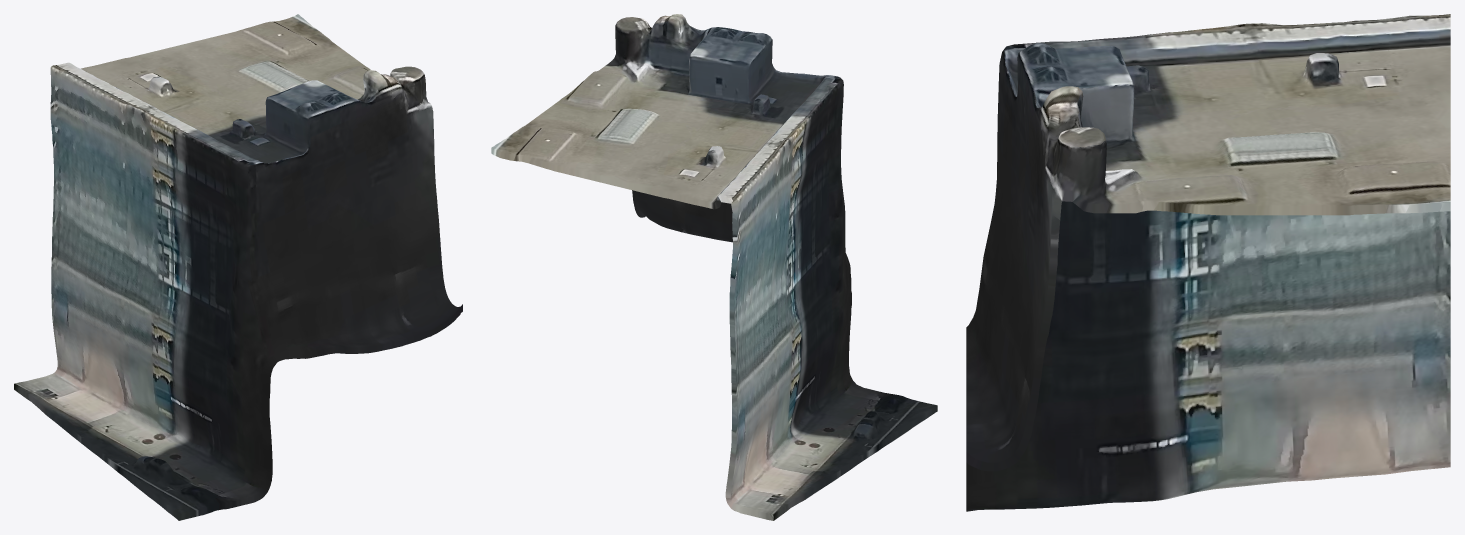
The model's file is z20-167763-405240-h0-yup-uvflip-v3-world.glb.
3 renders of one model, left to right at view 1: azimuth 30°, elevation 25°; view 2: azimuth 150°, elevation 25°; view 3: azimuth 270°, elevation 25°, orthographic. The views are drawn at different scales.
Bounding box in the file's own units: 30.16 × 37.36 × 30.32.
Materials: 1 (1 with a texture image).
